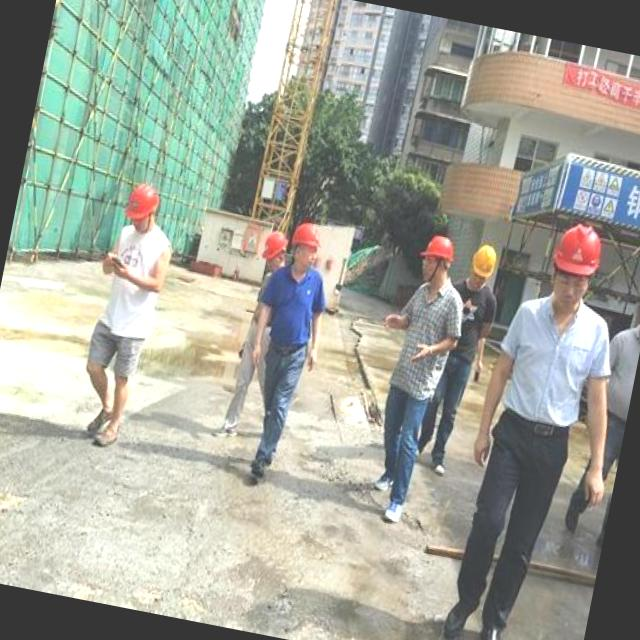helmet: (543, 216, 613, 288), (116, 177, 164, 238), (284, 222, 332, 268), (466, 241, 505, 286), (418, 227, 461, 264)
no-vest: (490, 293, 622, 446), (386, 279, 469, 402), (96, 219, 176, 339), (254, 256, 338, 356)
